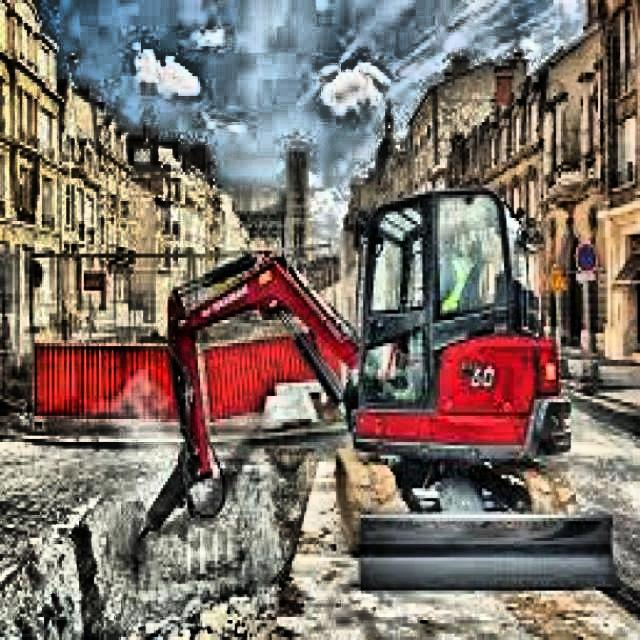bull_dozer/loader/grader: (137, 186, 620, 592)
person: (439, 220, 487, 320)
